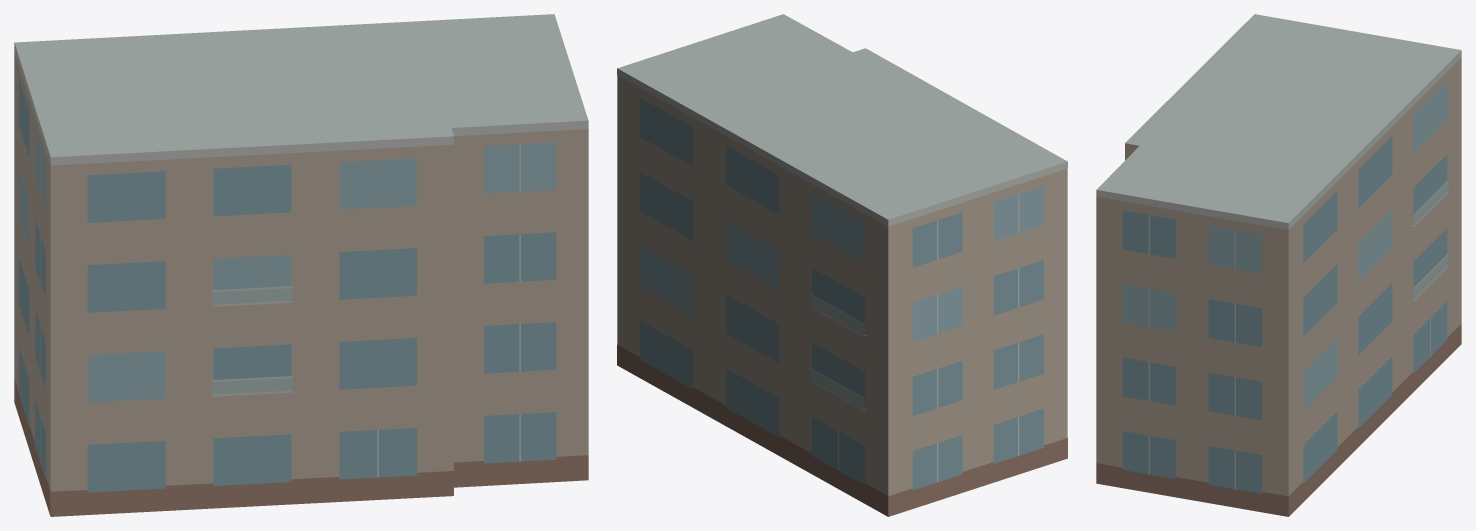
Rendered from survey-upis-32875062.glb.
The picture shows the model from 3 angles, left to right: view 1: azimuth 30°, elevation 25°; view 2: azimuth 150°, elevation 25°; view 3: azimuth 270°, elevation 25°; orthographic projection. The views are drawn at different scales.
Visible parts, largest first — view 1: survey-upis-32875062.tmp; view 2: survey-upis-32875062.tmp; view 3: survey-upis-32875062.tmp.
Part boxes in pixels (box(x1,y1,x2,y2)): survey-upis-32875062.tmp: box(14, 14, 588, 516); survey-upis-32875062.tmp: box(617, 14, 1067, 516); survey-upis-32875062.tmp: box(1096, 14, 1461, 516).
Size of the model in its own units: 16.04 by 10.5 by 11.85.
